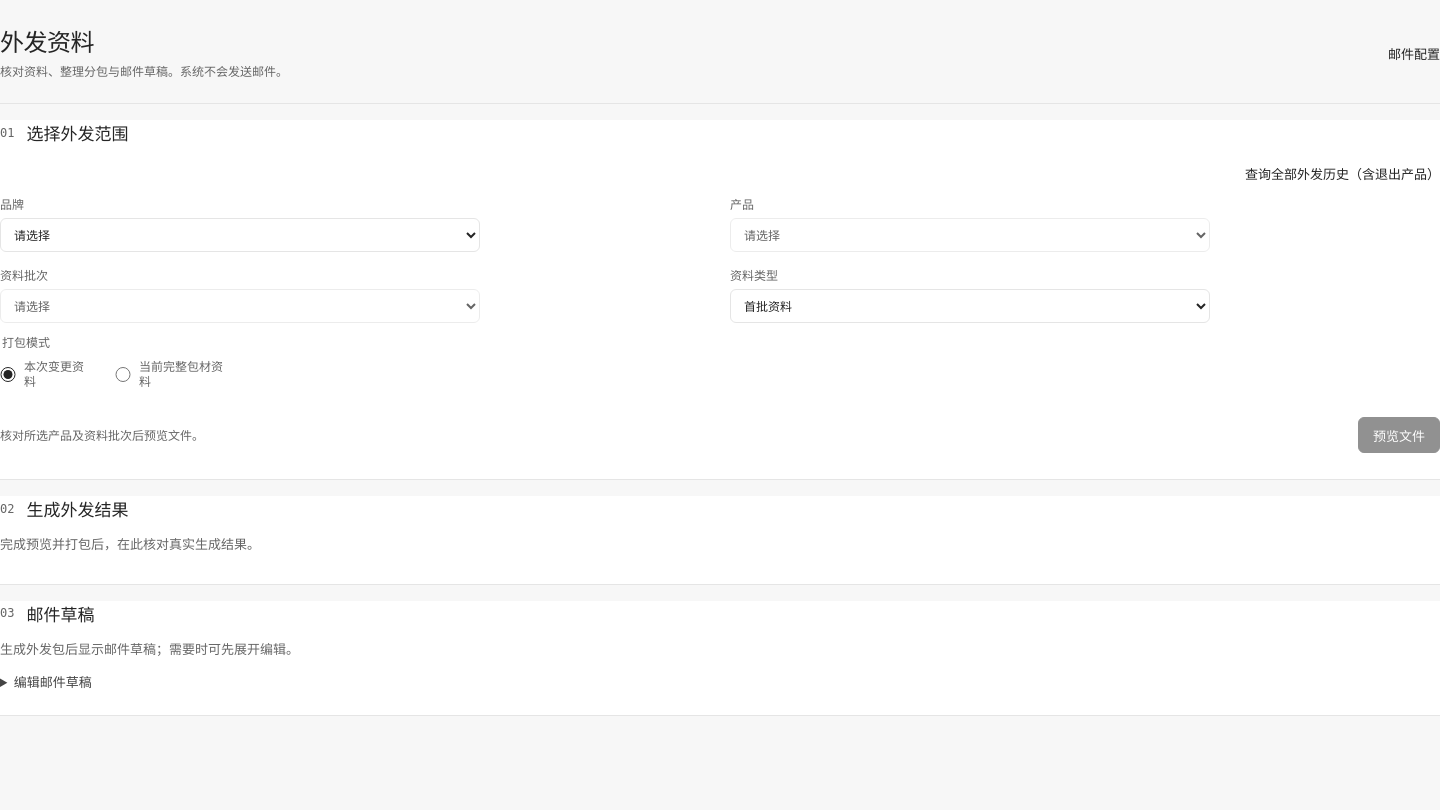
Test case: OutboundPage › opens completed history without requiring a still-active product
The image size is (1440, 810).
Click the button "查询全部外发历史（含退出产品）": (1342, 173) [1245,159,1439,187]
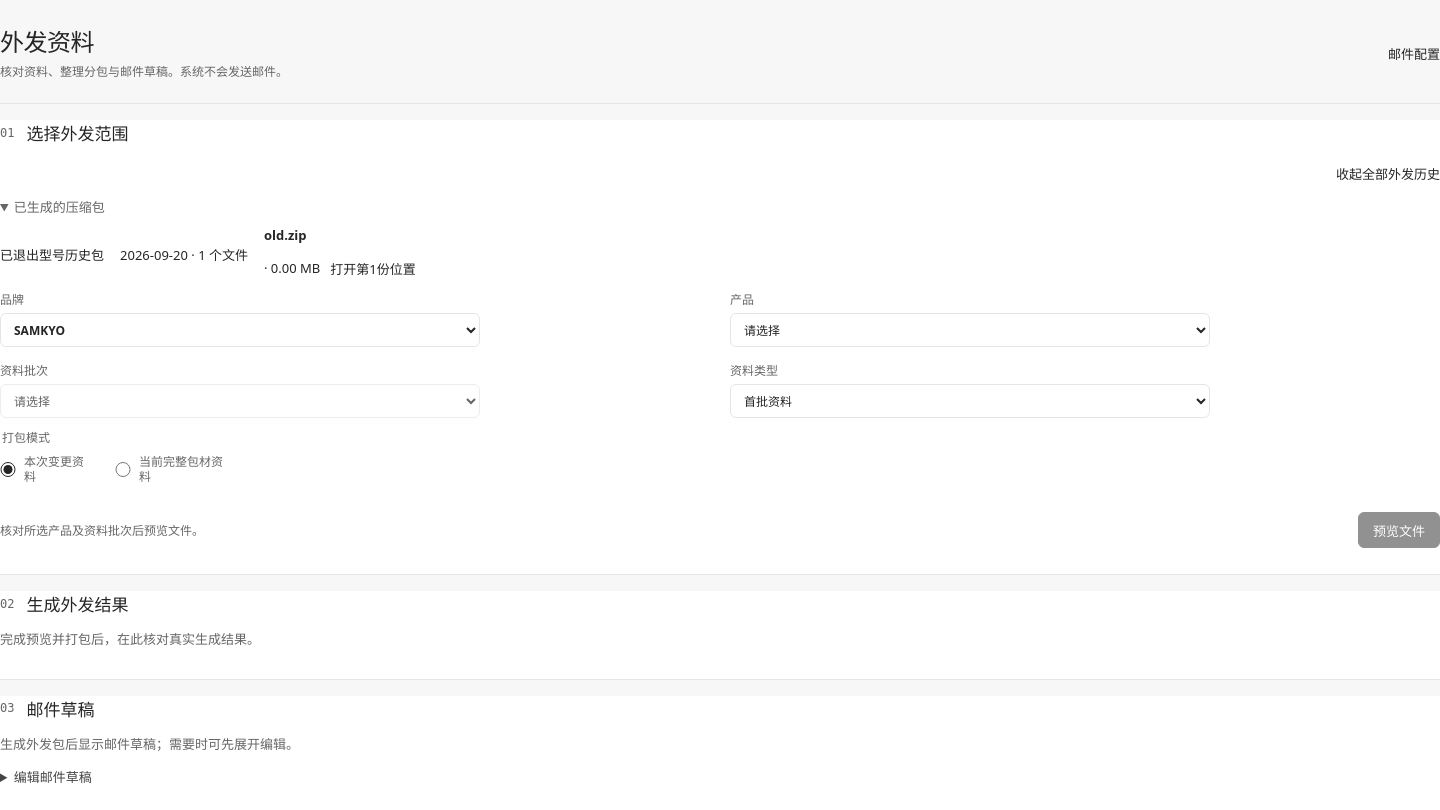
Result: the text "已退出型号历史包" is shown at [0,244,104,264]
